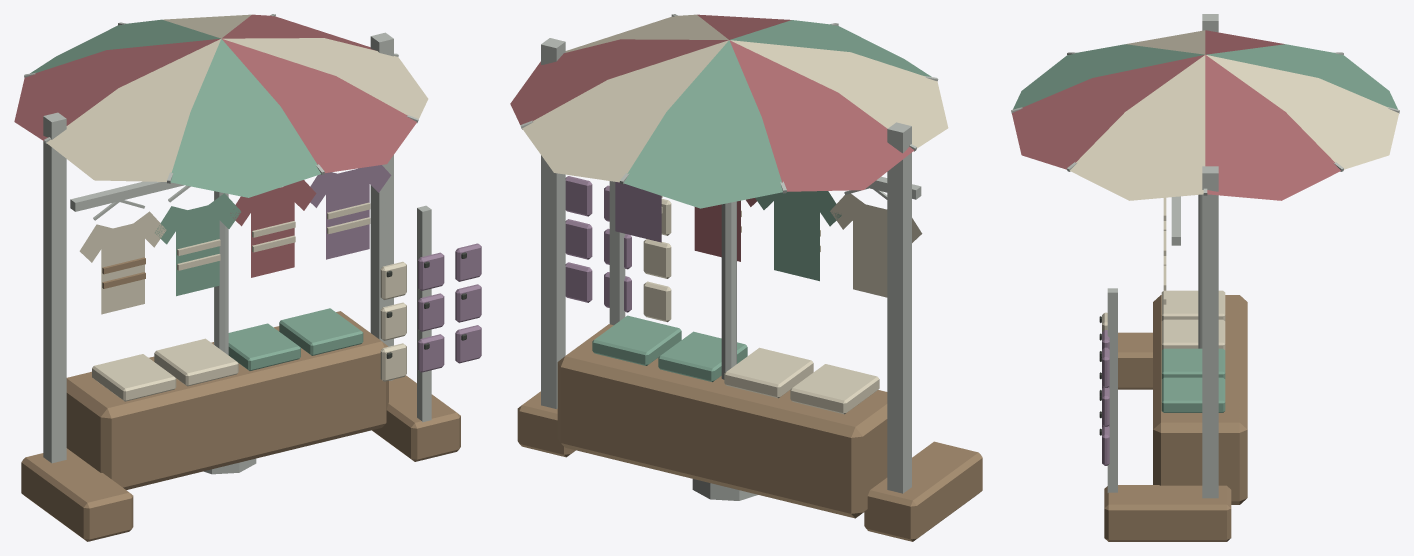
File: clothes-accessories.glb
3 renders of one model, left to right at view 1: azimuth 30°, elevation 25°; view 2: azimuth 150°, elevation 25°; view 3: azimuth 270°, elevation 25°, orthographic. The views are drawn at different scales.
Parts seen in each view (by area): view 1: clothes-accessories; view 2: clothes-accessories; view 3: clothes-accessories.
Boxes of the visible parts, <box> form: clothes-accessories: <box>14,14,481,541</box>; clothes-accessories: <box>510,14,982,541</box>; clothes-accessories: <box>1011,14,1399,541</box>.
Size of the model in its own units: 2.54 by 2.58 by 2.27.
